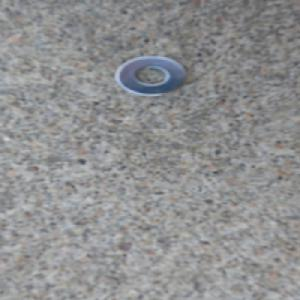Washer: (110, 52, 191, 100)
